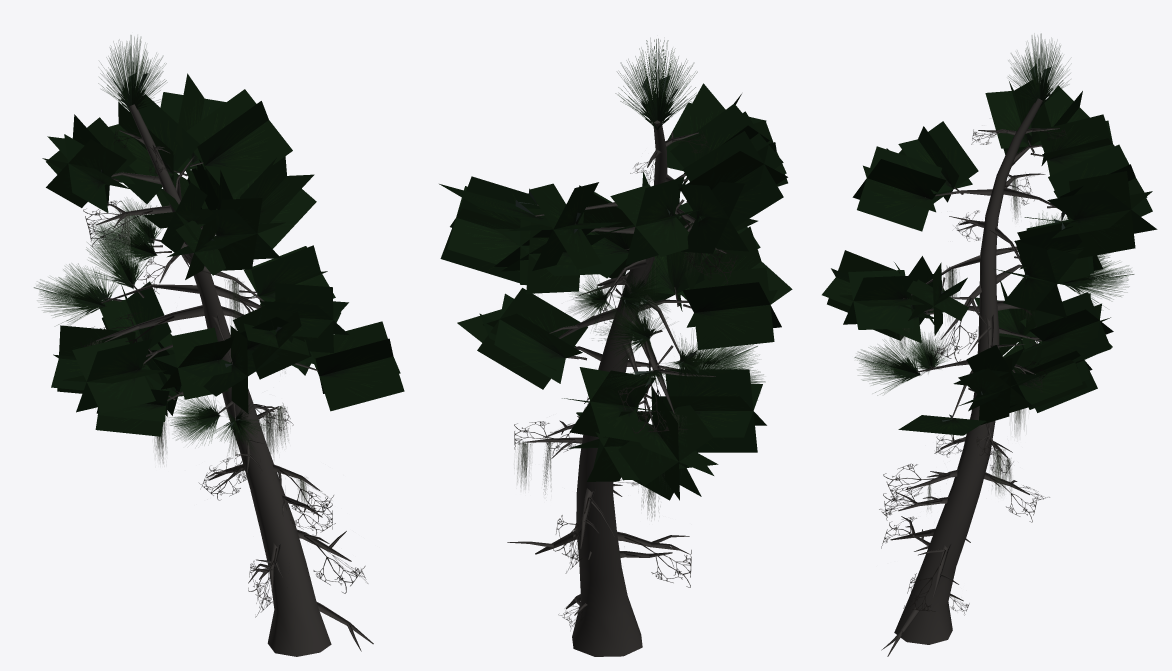
Rendered from Pino_Oscuro_Inclinado.glb.
The picture shows the model from 3 angles, left to right: view 1: azimuth 30°, elevation 25°; view 2: azimuth 150°, elevation 25°; view 3: azimuth 270°, elevation 25°; orthographic projection. The views are drawn at different scales.
Parts seen in each view (by area): view 1: Pino_Oscuro_Inclinado; view 2: Pino_Oscuro_Inclinado; view 3: Pino_Oscuro_Inclinado.
Boxes of the visible parts, left/top/right/bottom form: Pino_Oscuro_Inclinado: left=34, top=35, right=404, bottom=656; Pino_Oscuro_Inclinado: left=439, top=38, right=792, bottom=656; Pino_Oscuro_Inclinado: left=822, top=33, right=1157, bottom=656.
Bounding box in the file's own units: 6.83 × 12.25 × 6.74.
Materials: 7 (4 with a texture image).
